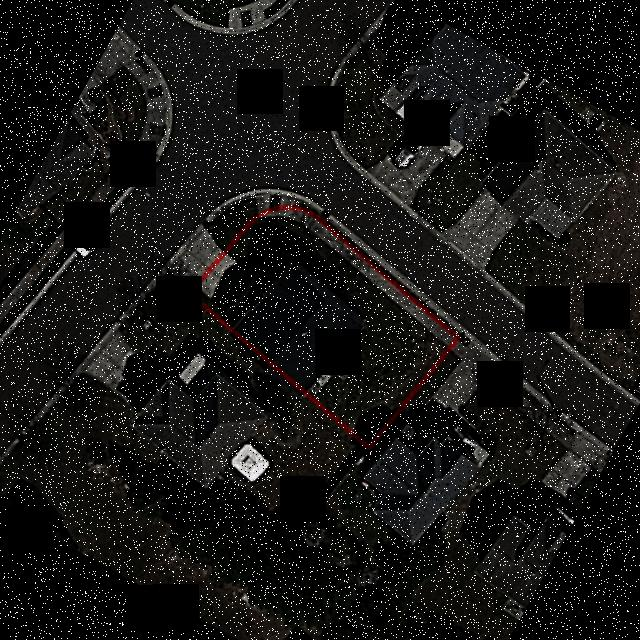Driveway: (197, 247, 291, 321)
House: (233, 257, 367, 391)
Other: (308, 350, 360, 395)
